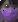with_mask: (1, 2, 18, 22)
